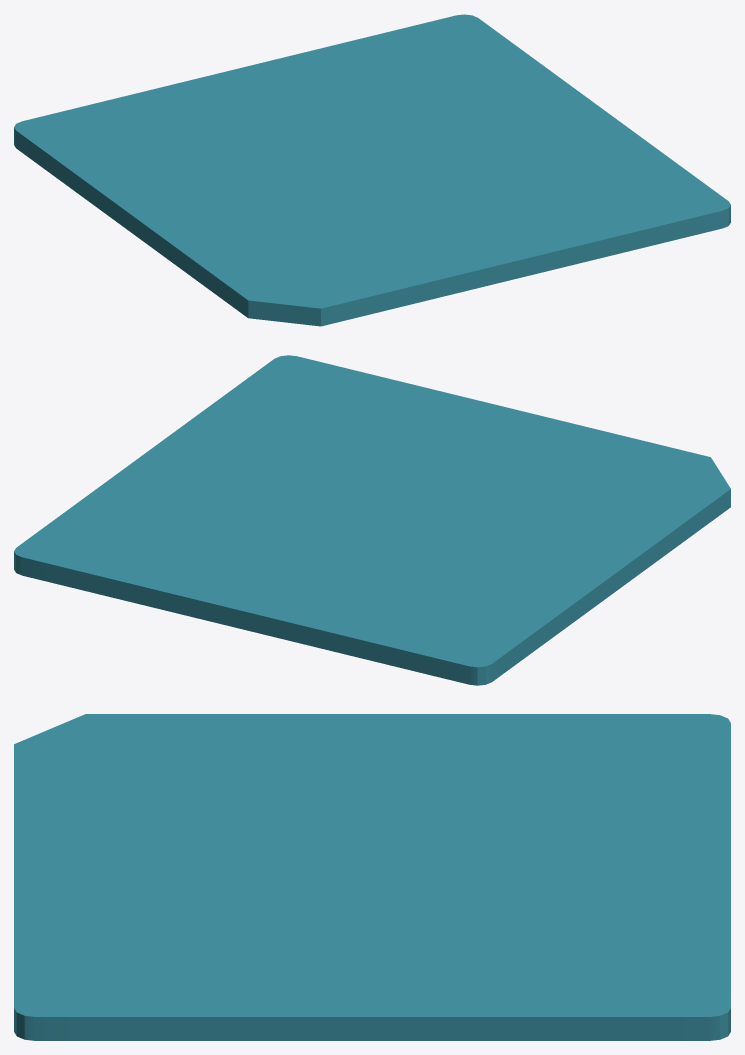
The model's file is B_FloppyDisk.fbx.
3 views of the same model, one above another, from view 1: azimuth 30°, elevation 25°; view 2: azimuth 150°, elevation 25°; view 3: azimuth 270°, elevation 25° (orthographic). The views are drawn at different scales.
Visible parts, largest first — view 1: B_FloppyDisk; view 2: B_FloppyDisk; view 3: B_FloppyDisk.
Boxes of the visible parts, x1,y1,x2,y2 form: B_FloppyDisk: (14,14,730,326); B_FloppyDisk: (14,355,730,685); B_FloppyDisk: (14,714,730,1040).
Bounding box in the file's own units: 1.44 × 0.0532 × 1.44.
